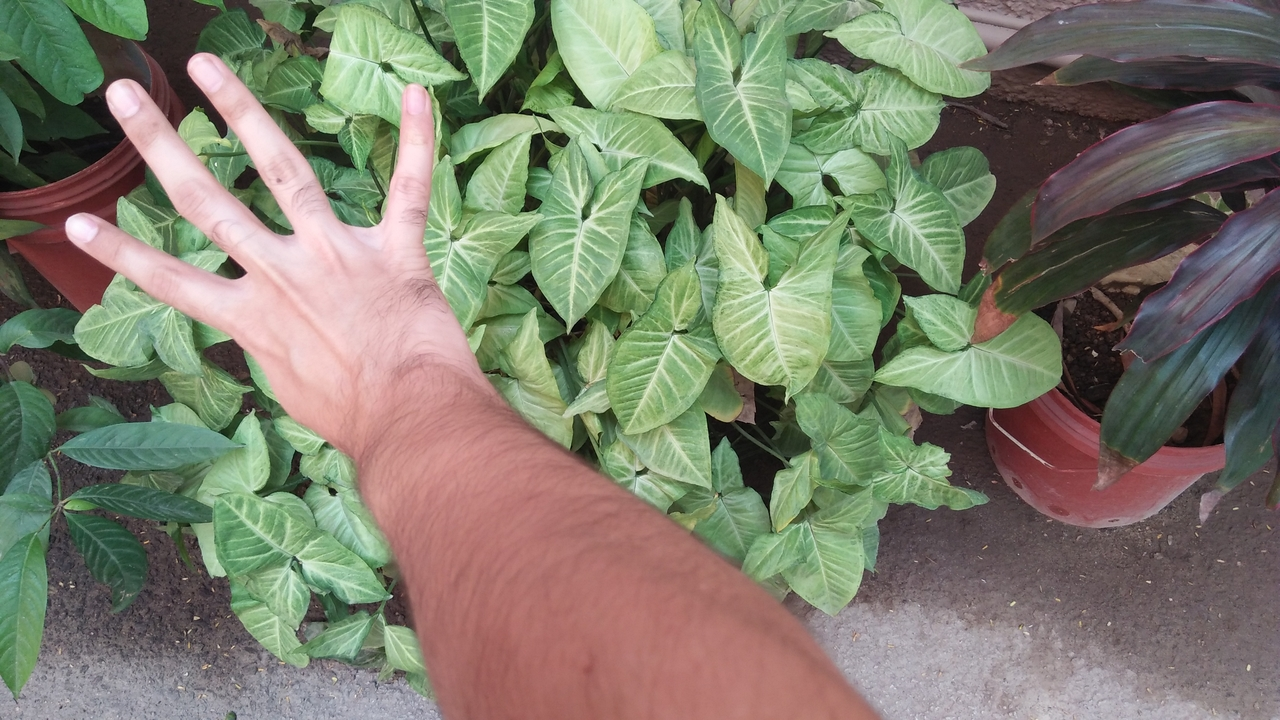fingertip: (96, 68, 162, 130), (176, 44, 232, 94), (60, 199, 102, 260), (390, 82, 432, 120)
